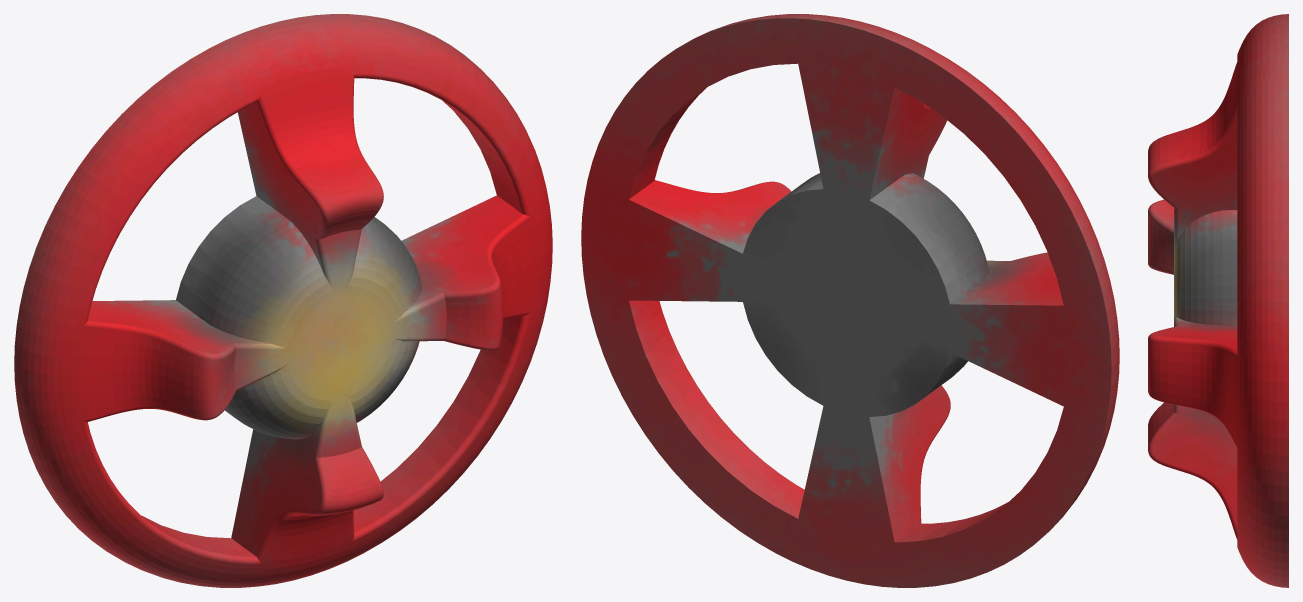
The model's file is Rocket Launcher.fbx.
The picture shows the model from 3 angles, left to right: view 1: azimuth 30°, elevation 25°; view 2: azimuth 150°, elevation 25°; view 3: azimuth 270°, elevation 25°; orthographic projection. The views are drawn at different scales.
Visible parts, largest first — view 1: node_id4; view 2: node_id4; view 3: node_id4.
Boxes of the visible parts, bbox=[...] form: node_id4: bbox=[14, 14, 552, 587]; node_id4: bbox=[581, 14, 1119, 587]; node_id4: bbox=[1148, 14, 1288, 587].
Bounding box in the file's own units: 25 × 25 × 6.13.
